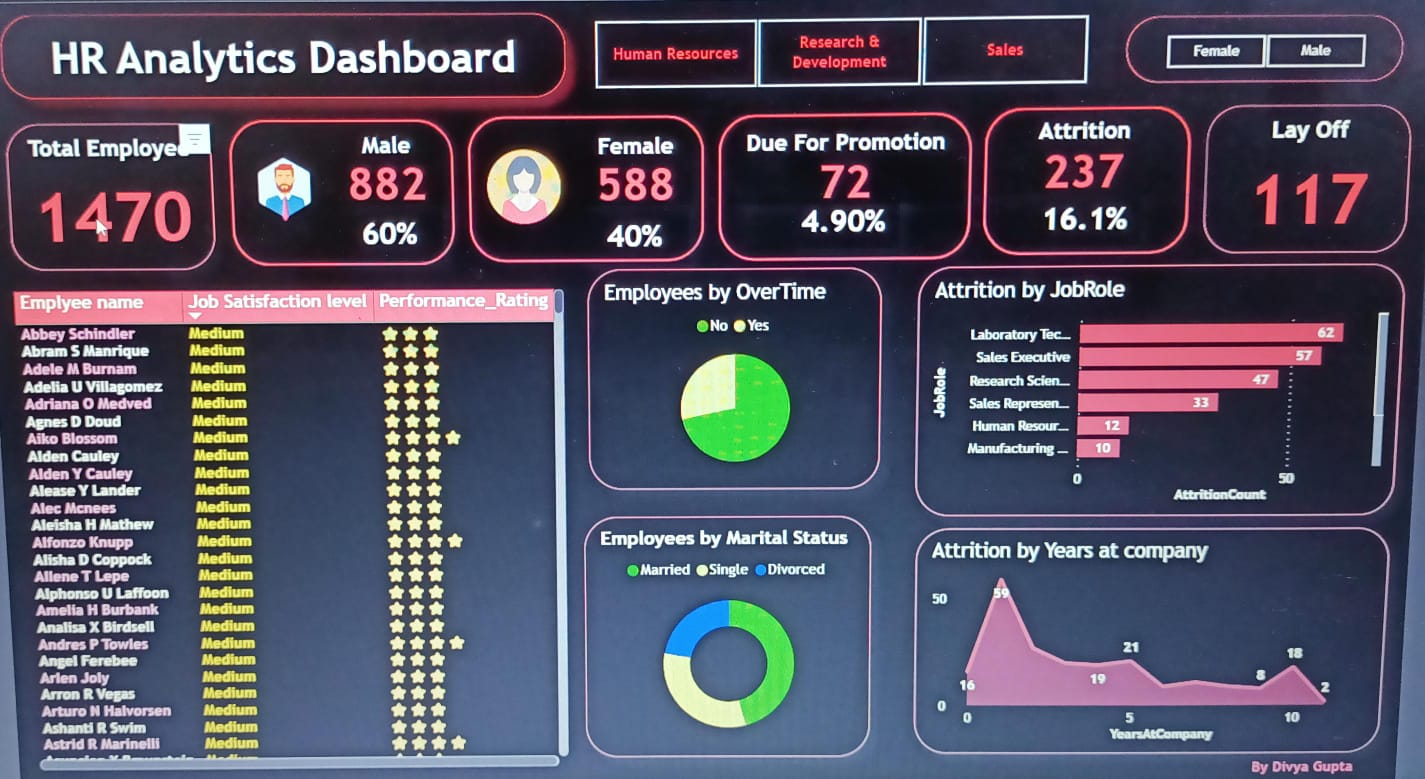

Layout of this report page (visuals, bound fields, positions):
{"tool":"powerbi","page":{"name":"Dashboard","canvas":[1280,720],"ordinal":0},"visuals":[{"type":"card","title":"Total Employee","fields":{"Values":["HR Analytics Data.EmployeeNumber"]},"box":[20.2,105.2,180.8,129.5],"z":0},{"type":"clusteredBarChart","title":"Attrition by JobRole","fields":{"Category":["HR Analytics Data.JobRole"],"Y":["HR Analytics Data.AttritionCount"]},"box":[832.4,236.1,430.4,228],"z":1000},{"type":"slicer","fields":{"Values":["HR Analytics Data.Department"]},"box":[516.7,10.8,481.6,71.5],"z":2000},{"type":"textbox","box":[13.5,16.2,502.7,72.8],"z":3000},{"type":"shape","box":[217.2,102.5,198.3,129.5],"z":4000},{"type":"card","title":"Male","fields":{"Values":["HR Analytics Data.Total Male Employee"]},"box":[306.2,113.3,99.8,64.8],"z":5000},{"type":"card","title":"Male","fields":{"Values":["HR Analytics Data.Male Percentage"]},"box":[308.9,178.1,97.1,49.9],"z":6000},{"type":"shape","box":[429,99.8,210.5,129.5],"z":7000},{"type":"card","title":"Female","fields":{"Values":["HR Analytics Data.Total Female Employee"]},"box":[527.5,114.7,101.2,64.8],"z":8000},{"type":"card","title":"Male","fields":{"Values":["HR Analytics Data.Female Percentage"]},"box":[527.5,182.1,98.5,49.9],"z":9000},{"type":"image","box":[223.9,130.9,82.3,64.8],"z":10000},{"type":"image","box":[441.1,105.2,75.5,113.3],"z":11000},{"type":"card","title":"Lay Off","fields":{"Values":["HR Analytics Data.Lay Off"]},"box":[1082,97.1,179.4,129.5],"z":12000},{"type":"areaChart","title":"Attrition by Years at company","fields":{"Category":["HR Analytics Data.YearsAtCompany"],"Y":["HR Analytics Data.AttritionCount"]},"box":[833.7,476.2,429,213.2],"z":13000},{"type":"pieChart","title":" Employees by OverTime","fields":{"Y":["HR Analytics Data.Total Employees"],"Category":["HR Analytics Data.OverTime"]},"box":[534.2,236.1,264.4,202.4],"z":14000},{"type":"tableEx","fields":{"Values":["HR employee data.Emplyee name","HR Analytics Data.Job Satisfaction_level","HR Analytics Data.Star Rating"]},"box":[13.5,249.6,503.2,456],"z":15000},{"type":"donutChart","title":" Employees by Marital Status","fields":{"Category":["HR Analytics Data.MaritalStatus"],"Y":["HR Analytics Data.Total Employees"]},"box":[528.8,464.1,263.1,228],"z":16000},{"type":"slicer","fields":{"Values":["HR Analytics Data.Gender"]},"box":[1009.1,18.9,241.5,56.7],"z":17000},{"type":"textbox","box":[20.2,10.8,496.5,72.9],"z":18000},{"type":"shape","box":[653,99.8,223.9,129.5],"z":19000},{"type":"card","title":"Due For Promotion","fields":{"Values":["HR Analytics Data.Due for Promotion"]},"box":[659.7,113.3,210.5,67.5],"z":20000},{"type":"card","title":"Male","fields":{"Values":["HR Analytics Data.Due for promotion percentage"]},"box":[715,170,98.5,49.9],"z":21000},{"type":"shape","box":[887.7,97.1,179.4,129.5],"z":22000},{"type":"card","title":"Attrition","fields":{"Values":["HR Analytics Data.AttritionCount"]},"box":[870.2,105.2,210.5,67.5],"z":23000},{"type":"card","title":"Male","fields":{"Values":["HR Analytics Data.AttritionRate"]},"box":[928.2,170,98.5,49.9],"z":24000},{"type":"textbox","box":[1141.3,689.4,139,31],"z":24001}]}

Visuals, with their boxes in screenshot pixels (x1, y1, x2, y2), scaled from the page's 1280x720 canvas onto the 1425x779 screenshot:
"Total Employee" card: 22:114:224:254
"Attrition by JobRole" clusteredBarChart: 927:255:1406:502
slicer - HR Analytics Data.Department: 575:12:1111:89
textbox: 15:18:575:96
shape: 242:111:463:251
"Male" card: 341:123:452:193
"Male" card: 344:193:452:247
shape: 478:108:712:248
"Female" card: 587:124:700:194
"Male" card: 587:197:697:251
image: 249:142:341:212
image: 491:114:575:236
"Lay Off" card: 1205:105:1404:245
"Attrition by Years at company" areaChart: 928:515:1406:746
" Employees by OverTime" pieChart: 595:255:889:474
tableEx - HR employee data.Emplyee name x HR Analytics Data.Job Satisfaction_level: 15:270:575:763
" Employees by Marital Status" donutChart: 589:502:882:749
slicer - HR Analytics Data.Gender: 1123:20:1392:82
textbox: 22:12:575:91
shape: 727:108:976:248
"Due For Promotion" card: 734:123:969:196
"Male" card: 796:184:906:238
shape: 988:105:1188:245
"Attrition" card: 969:114:1203:187
"Male" card: 1033:184:1143:238
textbox: 1271:746:1424:778
